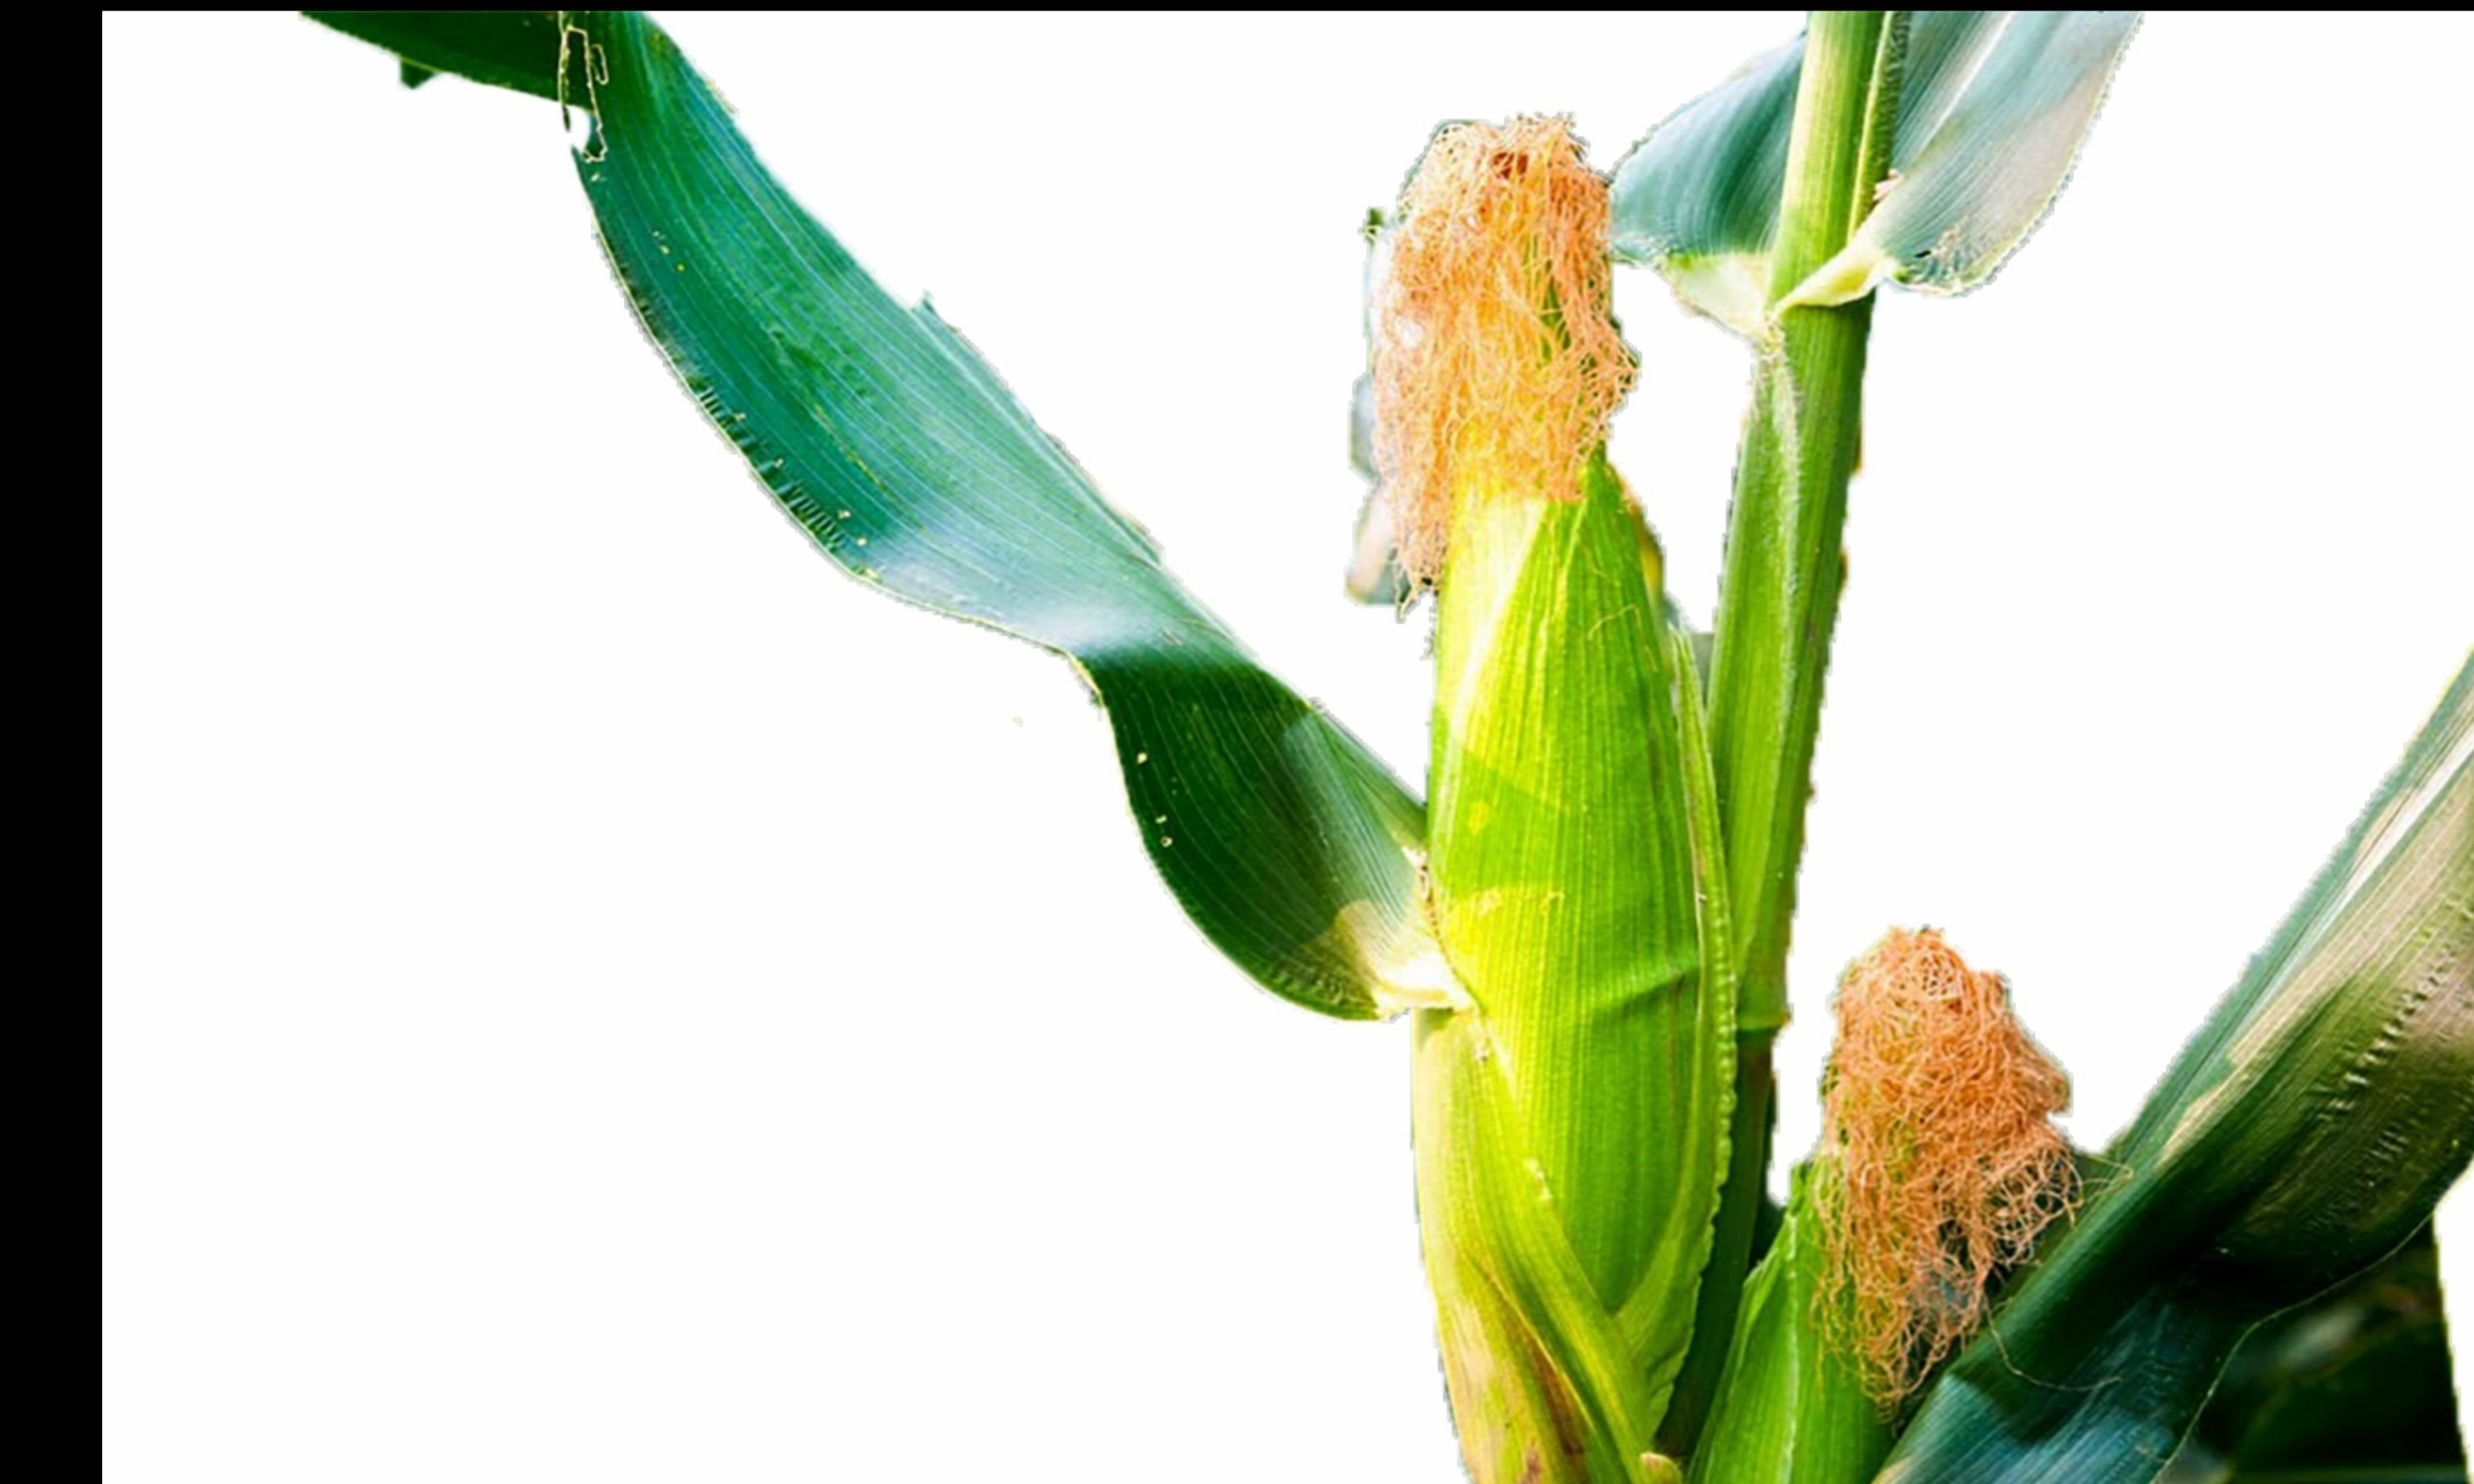corn_plant: (1254, 83, 1725, 1461)
